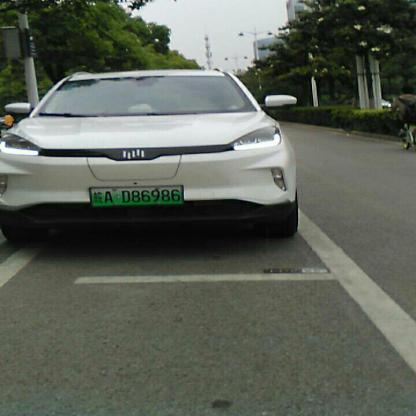lp: (90, 184, 182, 206)
